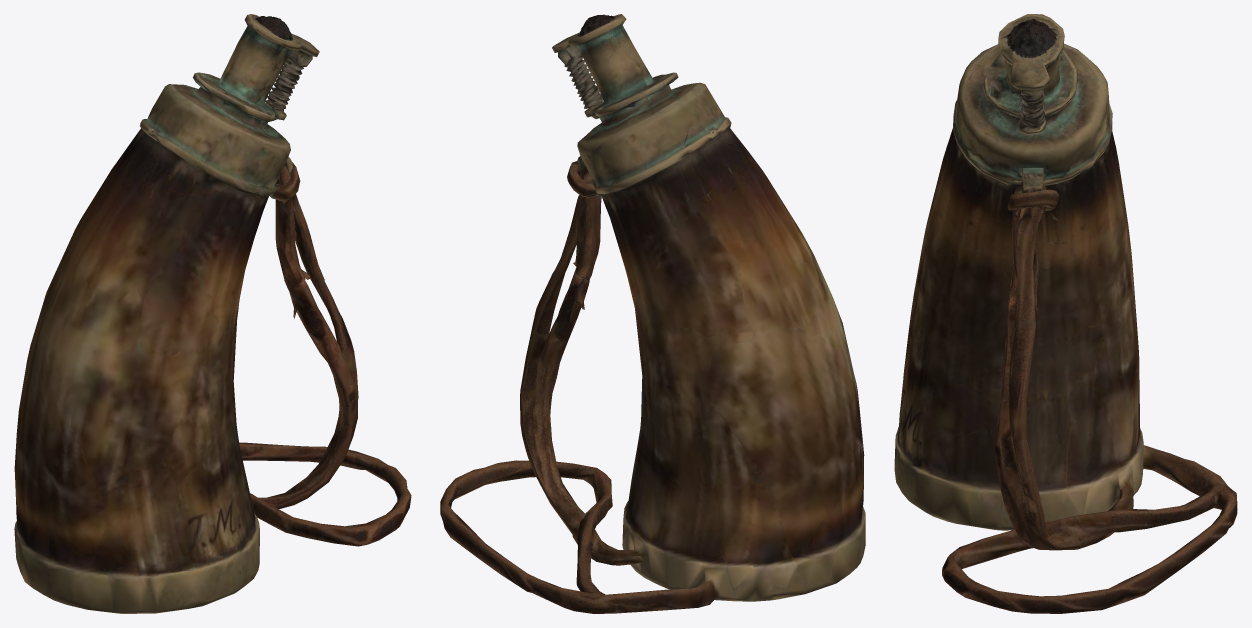
Rendered from powder_flask.82077b9b.glb.
3 views of the same model, side by side, from view 1: azimuth 30°, elevation 25°; view 2: azimuth 150°, elevation 25°; view 3: azimuth 270°, elevation 25° (orthographic). The views are drawn at different scales.
Visible parts, largest first — view 1: item; view 2: item; view 3: item.
Part boxes in pixels (x1,y1,x2,y2): item: (14,14,411,613); item: (440,14,865,613); item: (894,14,1237,613).
Size of the model in its own units: 0.1563 by 0.1996 by 0.1179.
1 material, 1 textured.
